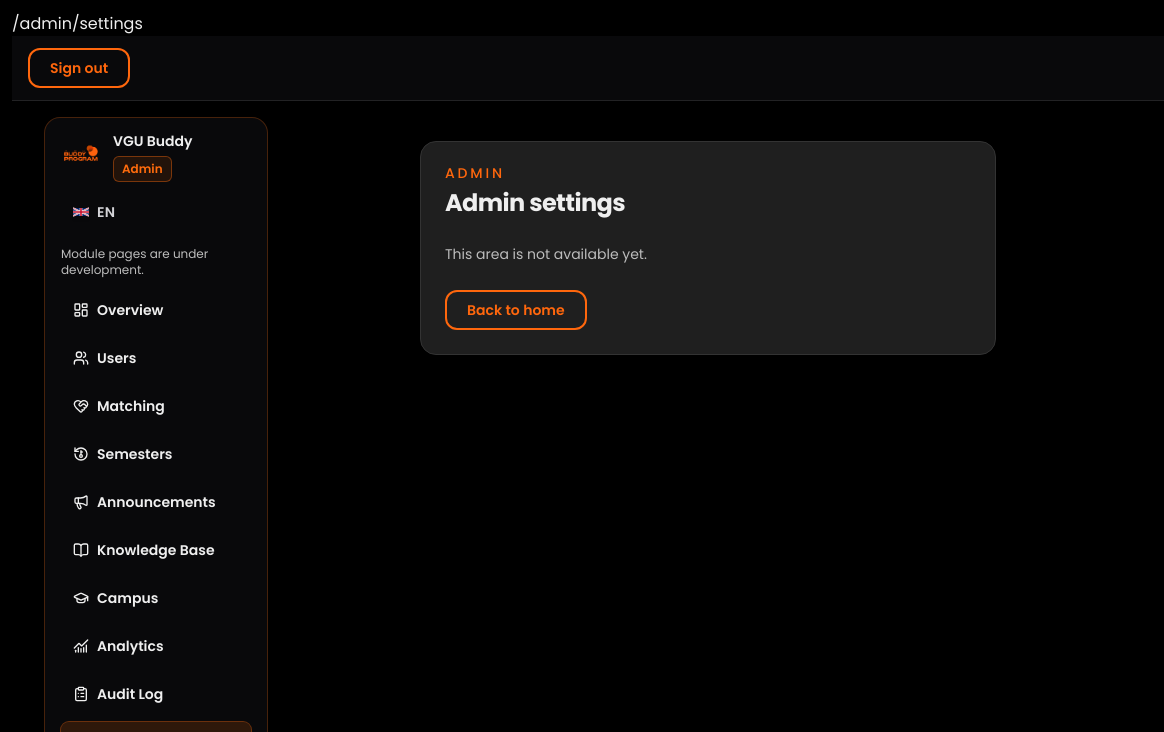
Test: ADMIN-002 guarded App navigation › opens the guarded Overview destination through the actual sidebar
The image size is (1164, 732).
Step 1. Click the link "Overview" → coordinates (118, 310), box [73,300,163,320]
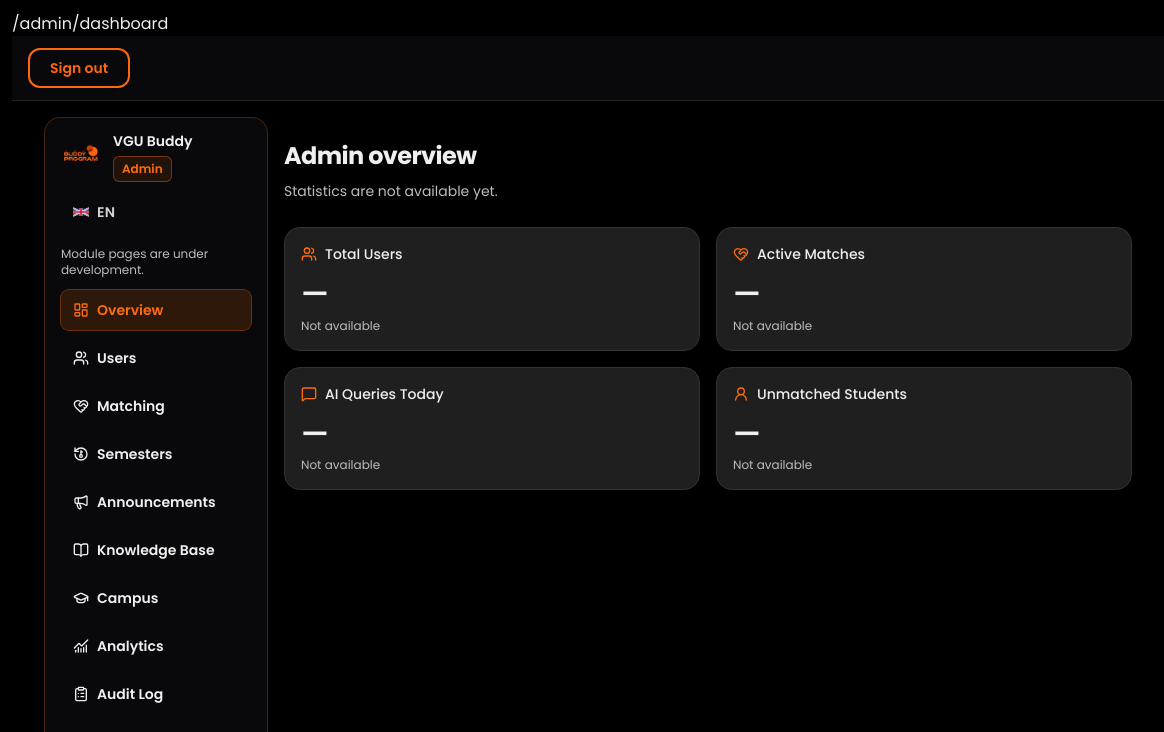
Now the text with test id "location" reads "/admin/dashboard", box [12,12,168,35]
Now the heading "Admin overview" is shown, box [284,139,476,172]
